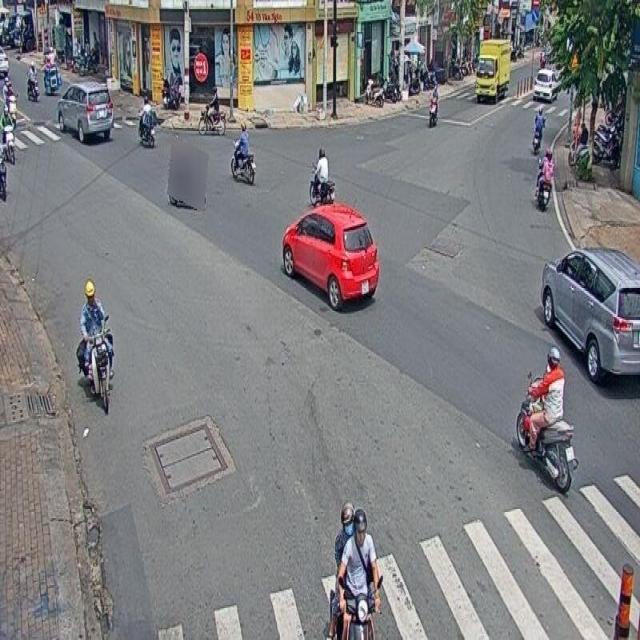car: (540, 248, 640, 381), (282, 201, 379, 309), (58, 79, 114, 142)
motorcycle: (515, 344, 575, 496), (326, 498, 384, 640), (76, 279, 114, 414), (167, 134, 206, 210), (230, 120, 256, 186), (308, 146, 336, 204), (198, 85, 226, 136), (534, 146, 554, 214), (138, 96, 155, 148)
